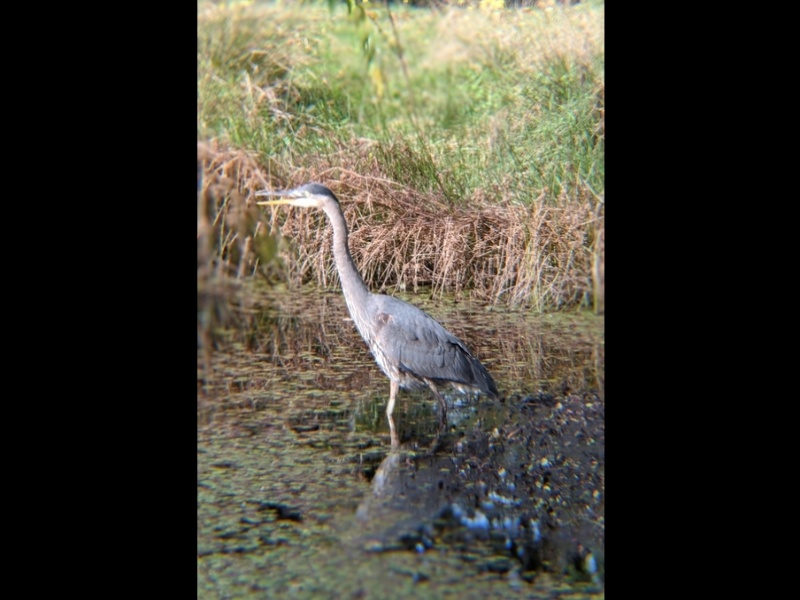heron: (251, 182, 500, 450)
